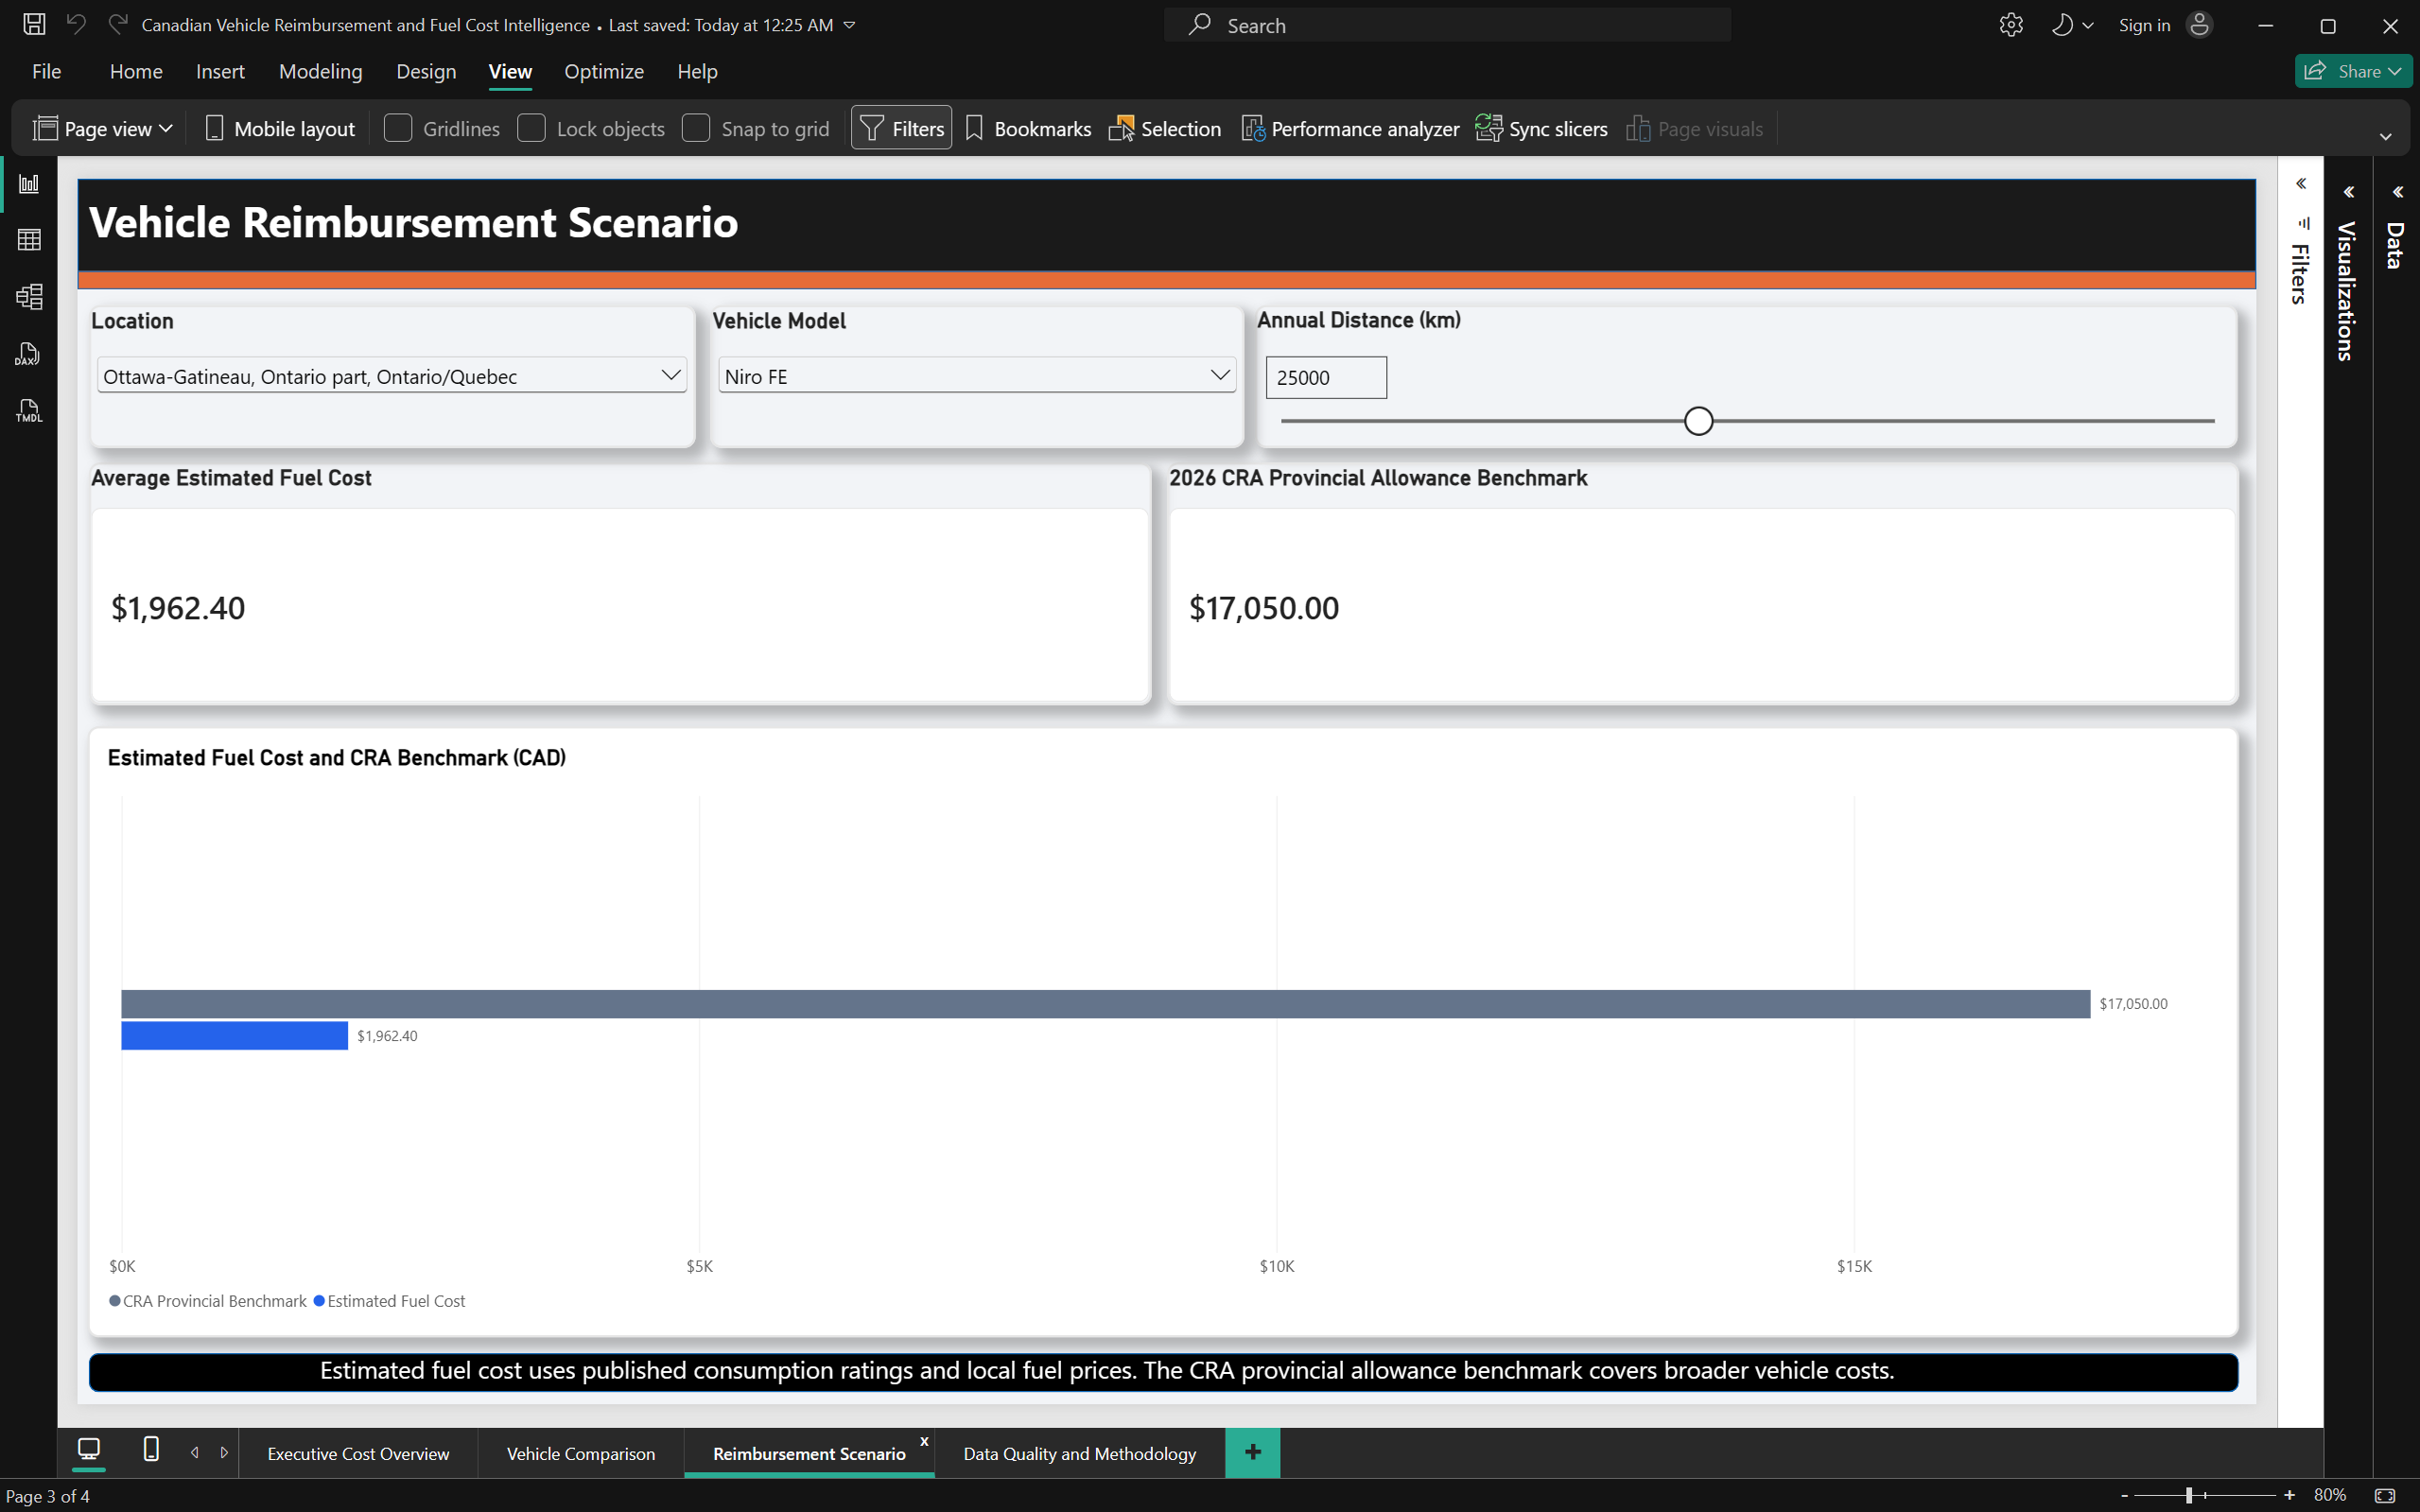

The page's visual inventory and layout, read from the dashboard file:
{"tool":"powerbi","page":{"name":"Reimbursement Scenario","canvas":[1920,1080],"ordinal":2},"visuals":[{"type":"slicer","title":"Annual Distance (km)","fields":{"Values":["Annual Distance KM.Annual Distance KM"]},"box":[1038.1,111,866.2,125.9],"z":0},{"type":"cardVisual","title":"\tAverage Estimated Fuel Cost","fields":{"Data":["Vehicle Fuel Cost Scenarios.Average Scenario Fuel Cost"]},"box":[9.5,250.4,936.5,213.8],"z":1000},{"type":"cardVisual","title":"2026 CRA Provincial Allowance Benchmark","fields":{"Data":["Vehicle Fuel Cost Scenarios.2026 CRA Provincial Allowance Benchmark"]},"box":[959.6,250.4,944.7,213.8],"z":2000},{"type":"shape","box":[9.8,1034.5,1894.7,34.4],"z":3000},{"type":"textbox","box":[213.8,1034,1395.3,43.3],"z":4000},{"type":"slicer","title":"Location","fields":{"Values":["Vehicle Fuel Cost Scenarios.GEO"]},"box":[9.5,111,534.6,125.9],"z":5000},{"type":"slicer","title":"Vehicle Model","fields":{"Values":["Vehicle Fuel Cost Scenarios.Model"]},"box":[557.6,111,471,125.9],"z":6000},{"type":"shape","box":[0,0,1920,97.5],"z":7000},{"type":"shape","box":[0,81.2,1920,16.2],"z":8000},{"type":"textbox","box":[9.5,10.8,606.3,56.8],"z":9000},{"type":"clusteredBarChart","title":"Estimated Fuel Cost and CRA Benchmark (CAD)","fields":{"Y":["Vehicle Fuel Cost Scenarios.2026 CRA Provincial Allowance Benchmark","Vehicle Fuel Cost Scenarios.Average Scenario Fuel Cost"]},"box":[8.6,482.3,1895.9,538.7],"z":9001}]}

Visuals, with their boxes in screenshot pixels (x1, y1, x2, y2):
"Annual Distance (km)" slicer: left=1282, top=278, right=2321, bottom=429
"	Average Estimated Fuel Cost" cardVisual: left=49, top=445, right=1172, bottom=702
"2026 CRA Provincial Allowance Benchmark" cardVisual: left=1189, top=445, right=2321, bottom=702
shape: left=49, top=1385, right=2321, bottom=1426
textbox: left=294, top=1384, right=1967, bottom=1436
"Location" slicer: left=49, top=278, right=690, bottom=429
"Vehicle Model" slicer: left=706, top=278, right=1271, bottom=429
shape: left=38, top=145, right=2340, bottom=262
shape: left=38, top=242, right=2340, bottom=262
textbox: left=49, top=158, right=776, bottom=226
"Estimated Fuel Cost and CRA Benchmark (CAD)" clusteredBarChart: left=48, top=723, right=2321, bottom=1369
